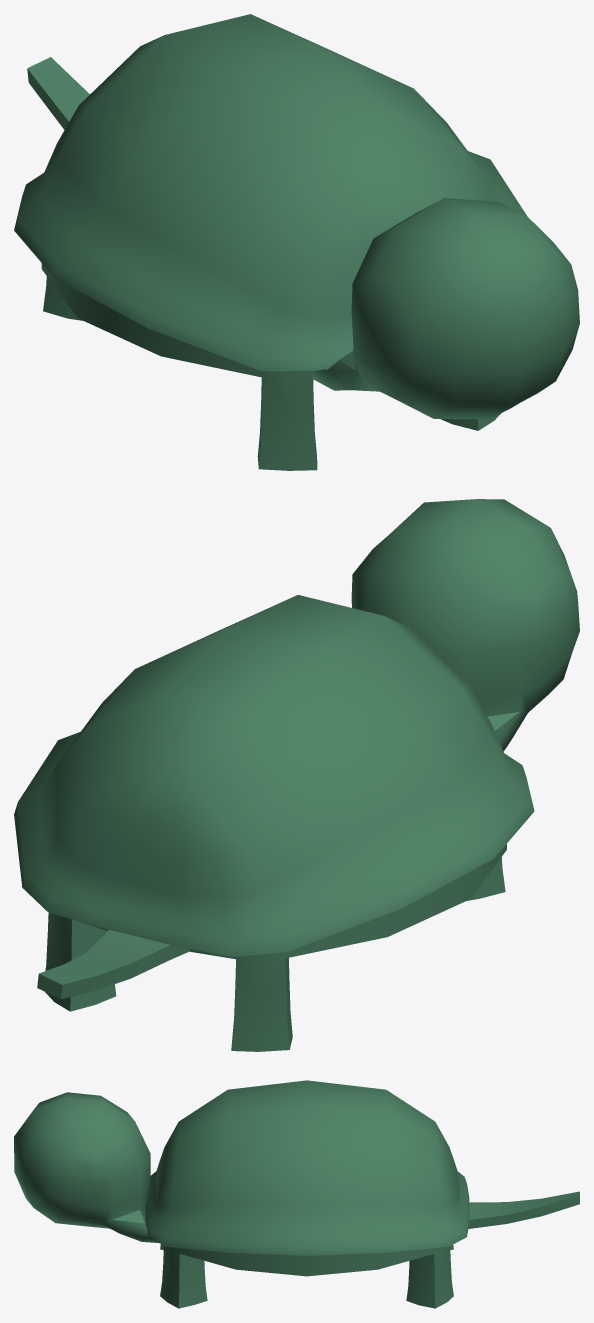
The model's file is Turtle_03.fbx.
3 renders of one model, top to bottom at view 1: azimuth 30°, elevation 25°; view 2: azimuth 150°, elevation 25°; view 3: azimuth 270°, elevation 25°, orthographic. The views are drawn at different scales.
Parts seen in each view (by area): view 1: Turtle; view 2: Turtle; view 3: Turtle.
Boxes of the visible parts, bbox=[...] form: Turtle: bbox=[14, 14, 579, 470]; Turtle: bbox=[14, 499, 579, 1051]; Turtle: bbox=[14, 1080, 579, 1308].
Size of the model in its own units: 50.06 by 32.6 by 93.97.
